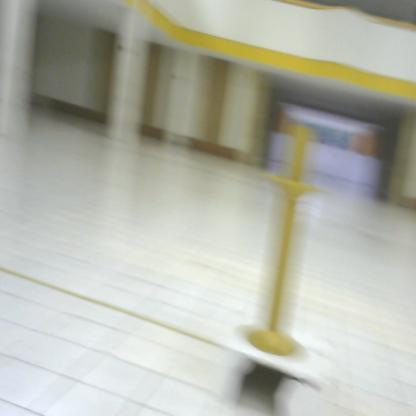pole: (245, 120, 335, 364)
